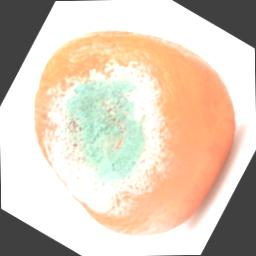Orange Rotten: (10, 0, 252, 236)
